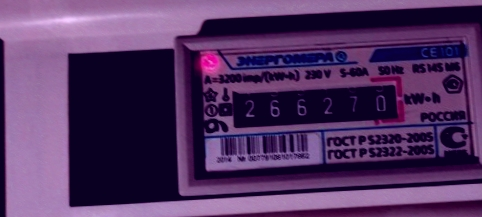0: (373, 91, 386, 112)
2: (241, 96, 256, 118), (320, 93, 333, 115)
6: (267, 97, 281, 117), (293, 96, 307, 115)
7: (345, 92, 359, 114)
screen: (221, 71, 410, 136)
